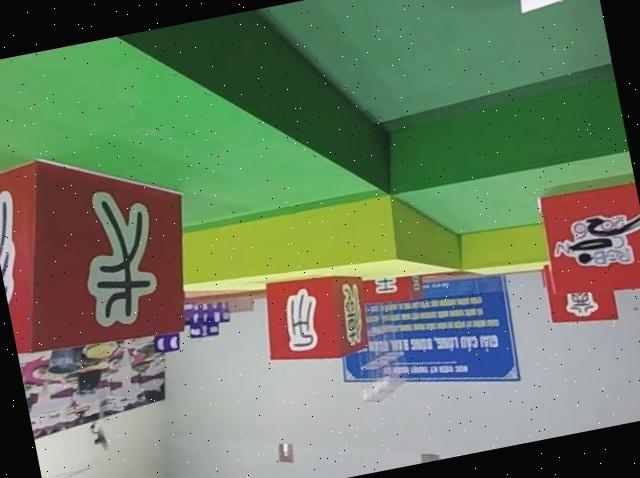R1: (534, 179, 640, 308)
R2 Fake: (0, 131, 206, 363), (252, 262, 374, 371)
